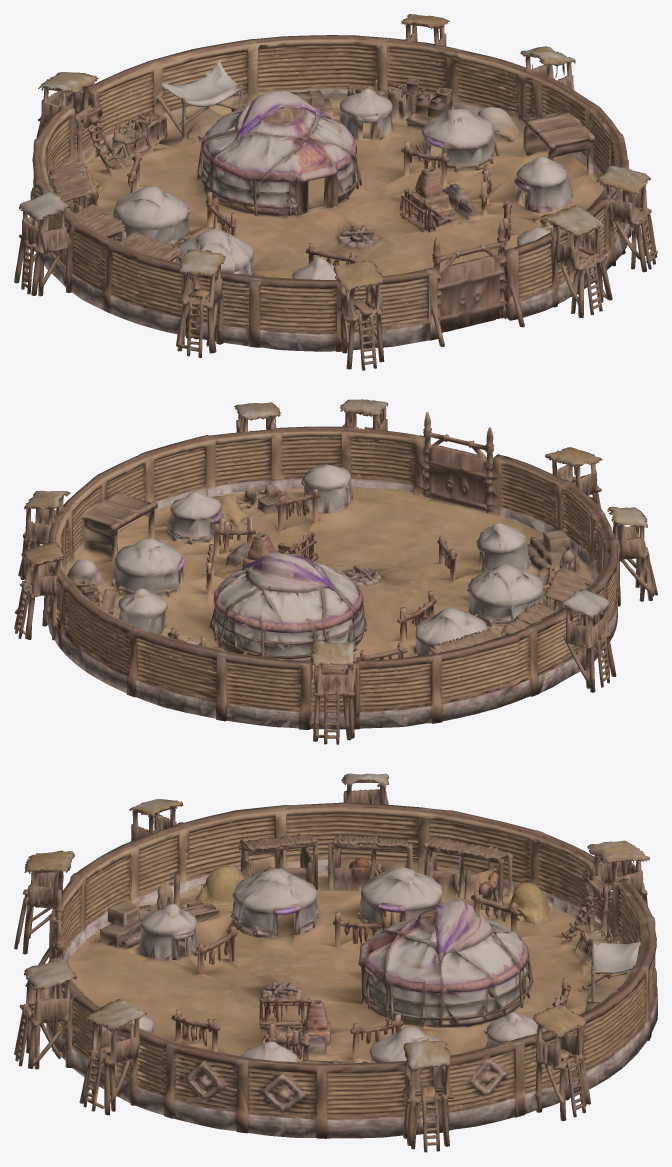
Rendered from Village_Huns_M.glb.
The picture shows the model from 3 angles, top to bottom: view 1: azimuth 30°, elevation 25°; view 2: azimuth 150°, elevation 25°; view 3: azimuth 270°, elevation 25°; orthographic projection. The views are drawn at different scales.
Visible parts, largest first — view 1: Mesh_0; view 2: Mesh_0; view 3: Mesh_0.
Part boxes in pixels (x1,y1,x2,y2): Mesh_0: (14, 14, 657, 370); Mesh_0: (14, 399, 657, 744); Mesh_0: (14, 773, 657, 1152).
Bounding box in the file's own units: 1.9 × 0.309 × 1.74.
Materials: 1 (1 with a texture image).
